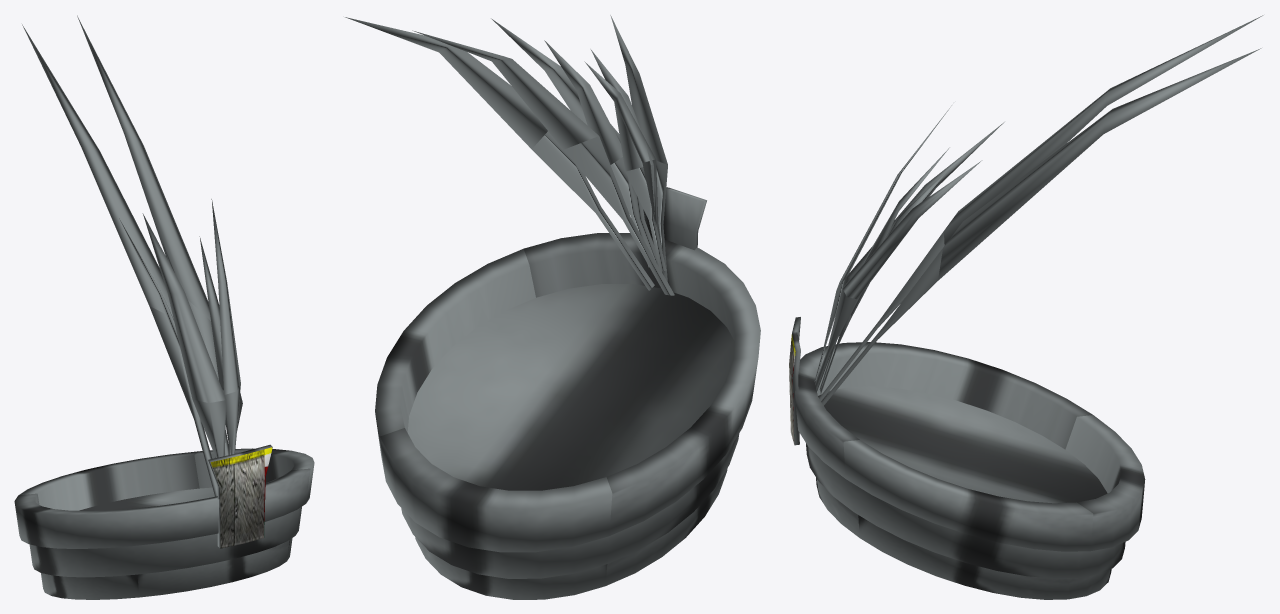
Rendered from inca_h_2.dae.
The picture shows the model from 3 angles, left to right: view 1: azimuth 30°, elevation 25°; view 2: azimuth 150°, elevation 25°; view 3: azimuth 270°, elevation 25°; orthographic projection. The views are drawn at different scales.
Visible parts, largest first — view 1: rome_helmet_b_002; view 2: rome_helmet_b_002; view 3: rome_helmet_b_002.
Boxes of the visible parts, x1,y1,x2,y2 form: rome_helmet_b_002: [14, 15, 314, 599]; rome_helmet_b_002: [345, 15, 760, 599]; rome_helmet_b_002: [789, 15, 1263, 599].
Bounding box in the file's own units: 0.5958 × 0.86 × 1.1.
